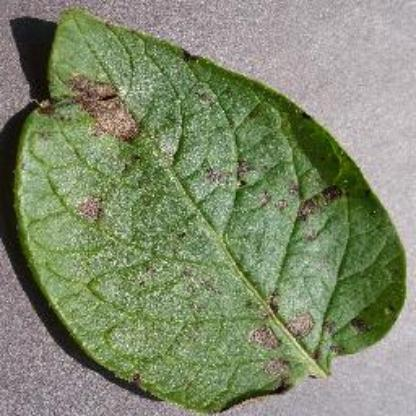Early-Blight: (15, 6, 403, 414)
